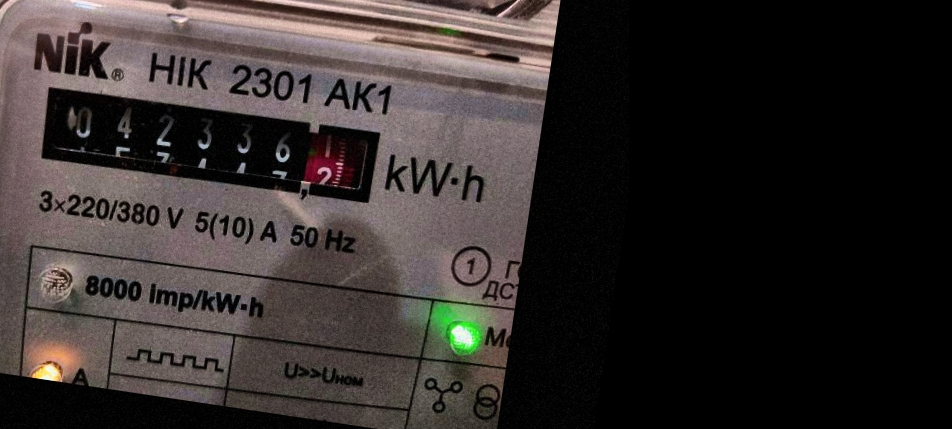0: (71, 102, 96, 140)
1: (319, 129, 336, 160)
2: (152, 110, 177, 148), (312, 163, 334, 186)
3: (192, 112, 217, 152), (230, 118, 255, 156)
4: (112, 101, 137, 140)
6: (269, 126, 296, 164)
screen: (29, 72, 390, 215)
